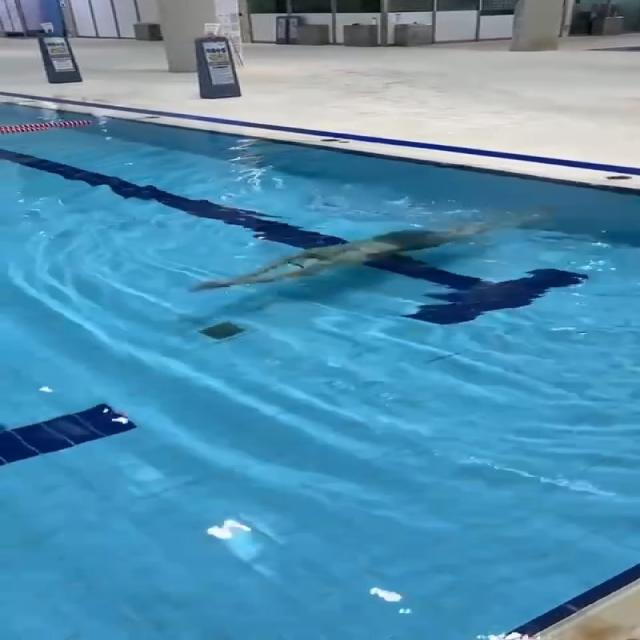Swimming: (168, 188, 562, 306)
